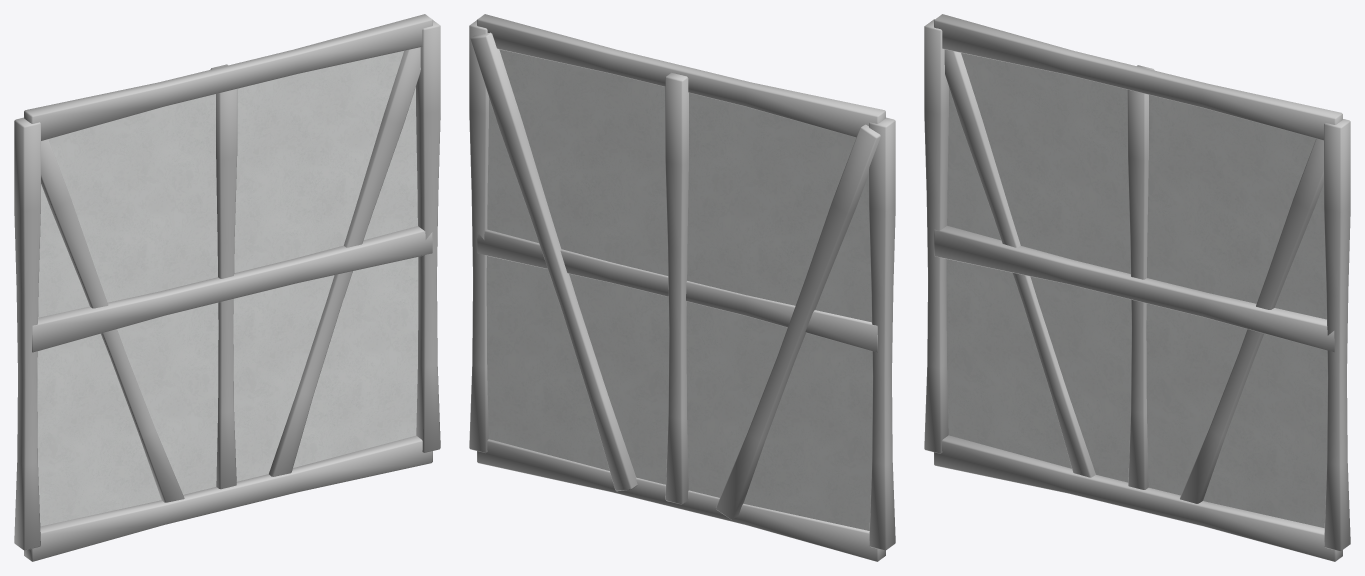
File: PlasterWall_Square_V.fbx
The picture shows the model from 3 angles, left to right: view 1: azimuth 30°, elevation 25°; view 2: azimuth 150°, elevation 25°; view 3: azimuth 330°, elevation 25°; orthographic projection.
Visible parts, largest first — view 1: PlasterWall_Square.002; view 2: PlasterWall_Square.002; view 3: PlasterWall_Square.002.
Boxes of the visible parts, x1,y1,x2,y2 form: PlasterWall_Square.002: [14, 14, 440, 561]; PlasterWall_Square.002: [469, 14, 895, 561]; PlasterWall_Square.002: [924, 14, 1350, 561].
Bounding box in the file's own units: 4.18 × 4.27 × 0.2487.
